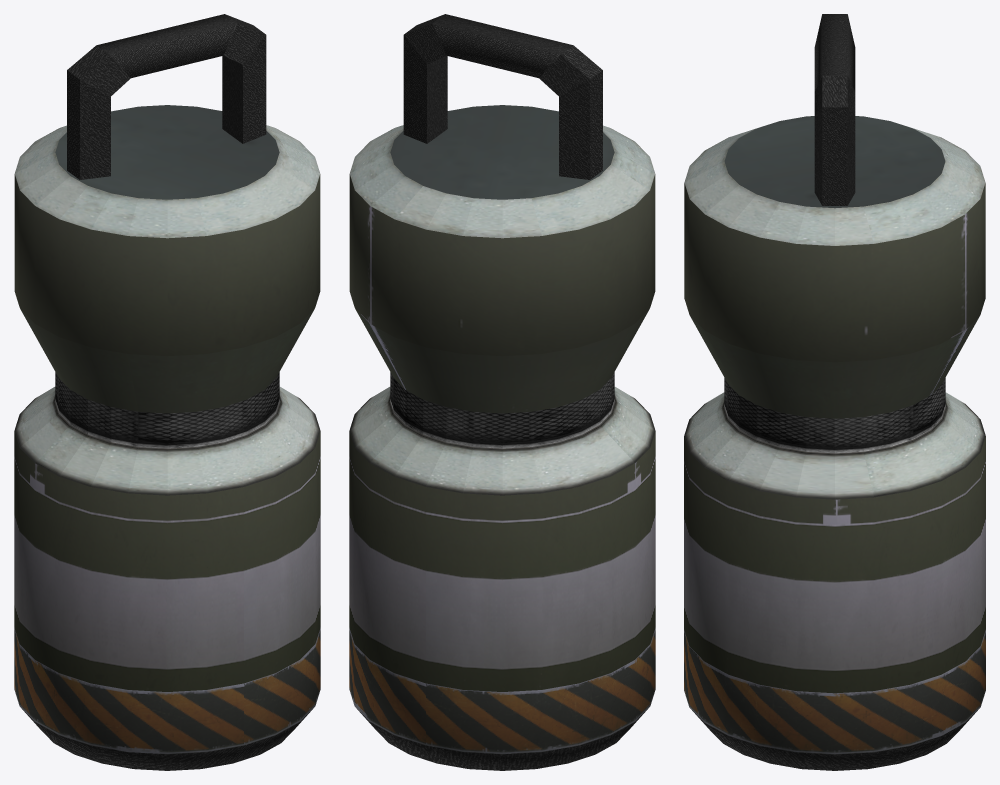
File: Canisters_02.fbx
3 views of the same model, side by side, from view 1: azimuth 30°, elevation 25°; view 2: azimuth 150°, elevation 25°; view 3: azimuth 270°, elevation 25° (orthographic).
Visible parts, largest first — view 1: Canisters_02; view 2: Canisters_02; view 3: Canisters_02.
Part boxes in pixels (left/top/right/bottom): Canisters_02: left=14, top=14, right=320, bottom=770; Canisters_02: left=349, top=14, right=655, bottom=770; Canisters_02: left=684, top=14, right=985, bottom=770.
Size of the model in its own units: 23.79 by 58.4 by 23.79.
